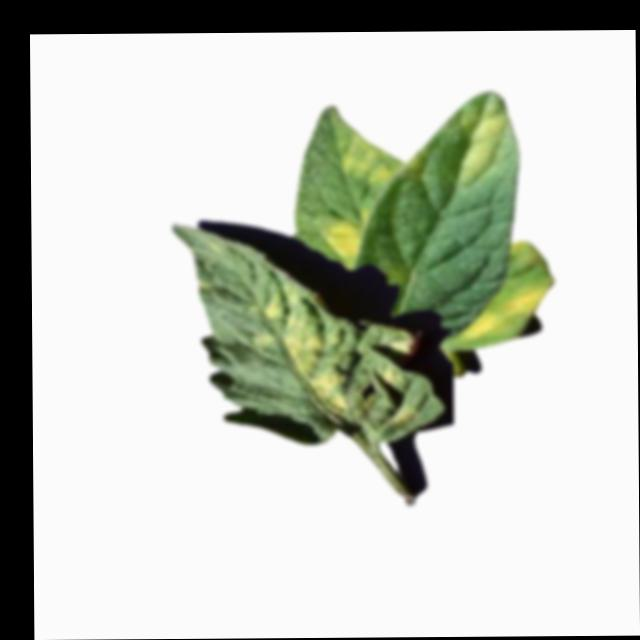Leaf_Mold: (253, 286, 358, 422), (327, 108, 409, 187), (459, 278, 554, 344), (456, 92, 513, 186), (319, 202, 374, 267)
